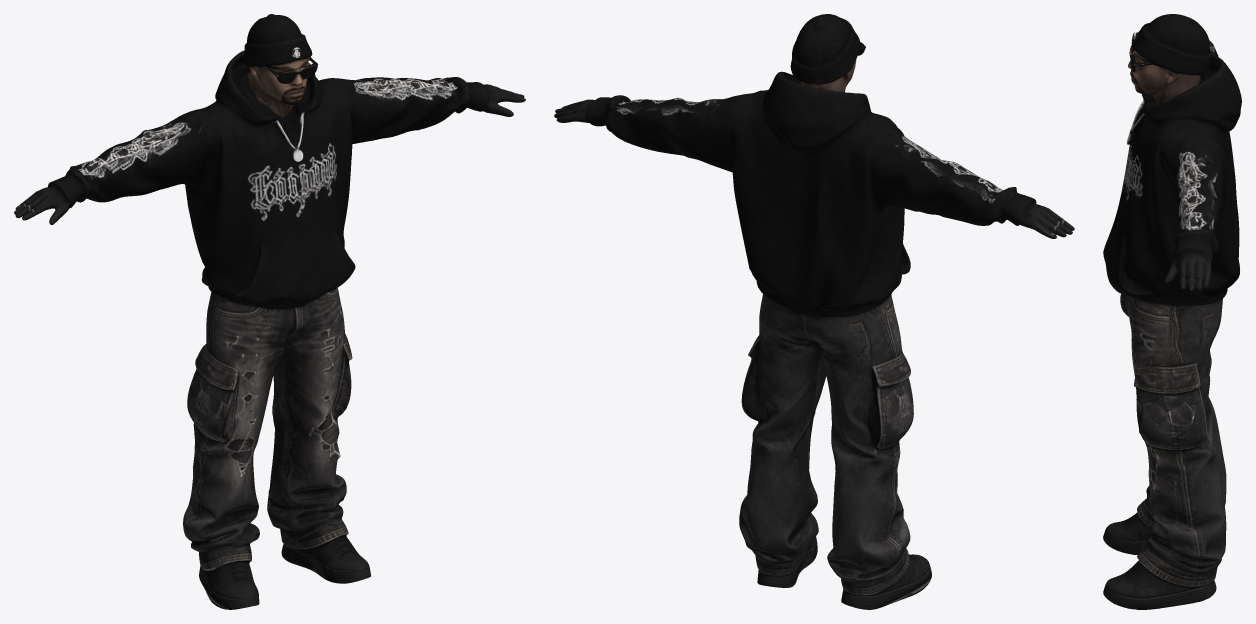
Rendered from Meshy_AI_Shadow_Spread_20261028_texture.fbx.
3 views of the same model, side by side, from view 1: azimuth 30°, elevation 25°; view 2: azimuth 150°, elevation 25°; view 3: azimuth 270°, elevation 25° (orthographic).
Visible parts, largest first — view 1: Mesh_0; view 2: Mesh_0; view 3: Mesh_0.
Part boxes in pixels (x1,y1,x2,y2): Mesh_0: [14, 14, 525, 609]; Mesh_0: [554, 14, 1074, 609]; Mesh_0: [1103, 14, 1241, 609].
Size of the model in its own units: 181 by 190 by 42.57.
1 material, 1 textured.
